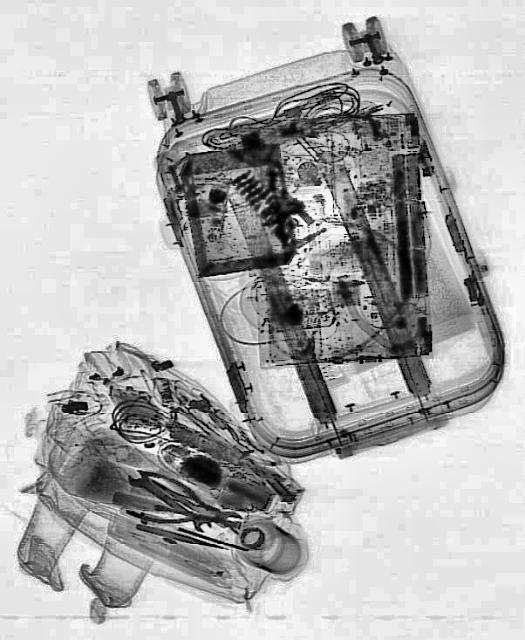Pliers: (121, 463, 245, 549)
Wrench: (126, 465, 214, 539)
